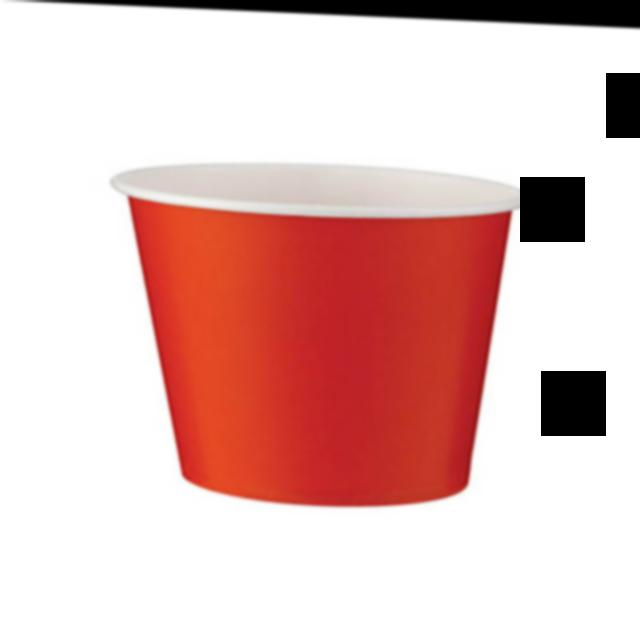karton-bardak: (97, 152, 512, 518)
